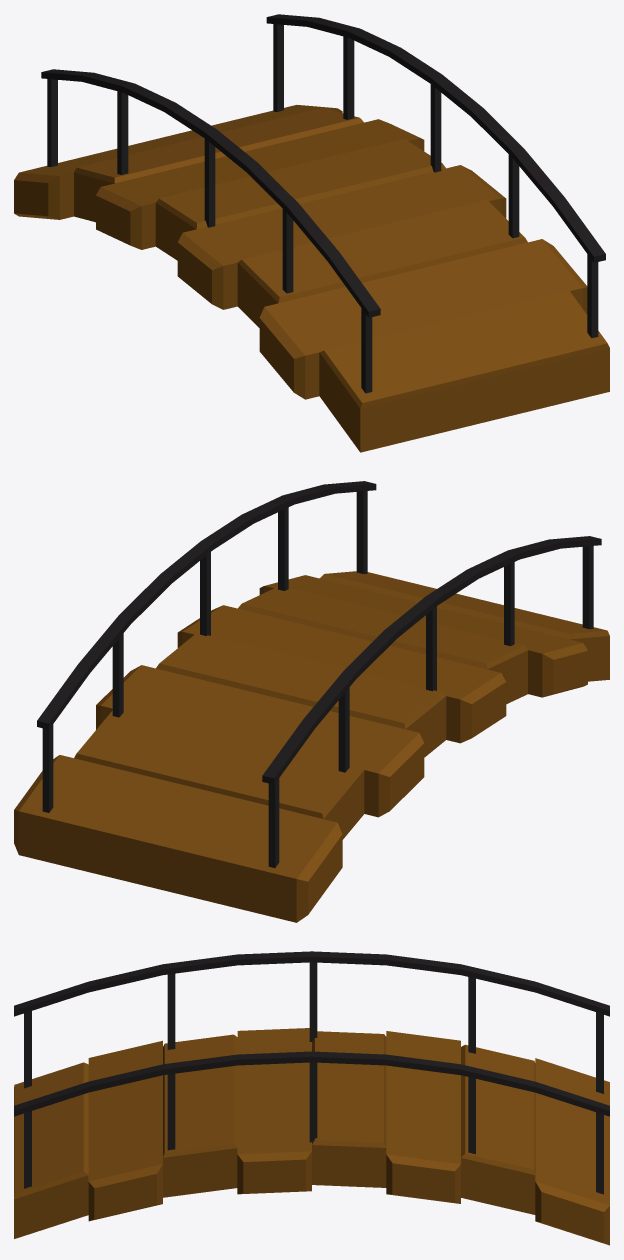
File: puente.fbx
The picture shows the model from 3 angles, top to bottom: view 1: azimuth 30°, elevation 25°; view 2: azimuth 150°, elevation 25°; view 3: azimuth 270°, elevation 25°; orthographic projection. The views are drawn at different scales.
Visible parts, largest first — view 1: puente.001; view 2: puente.001; view 3: puente.001.
Boxes of the visible parts, bbox=[...] form: puente.001: bbox=[14, 14, 609, 452]; puente.001: bbox=[14, 481, 609, 922]; puente.001: bbox=[14, 951, 609, 1245].
Bounding box in the file's own units: 314 × 203 × 605.
